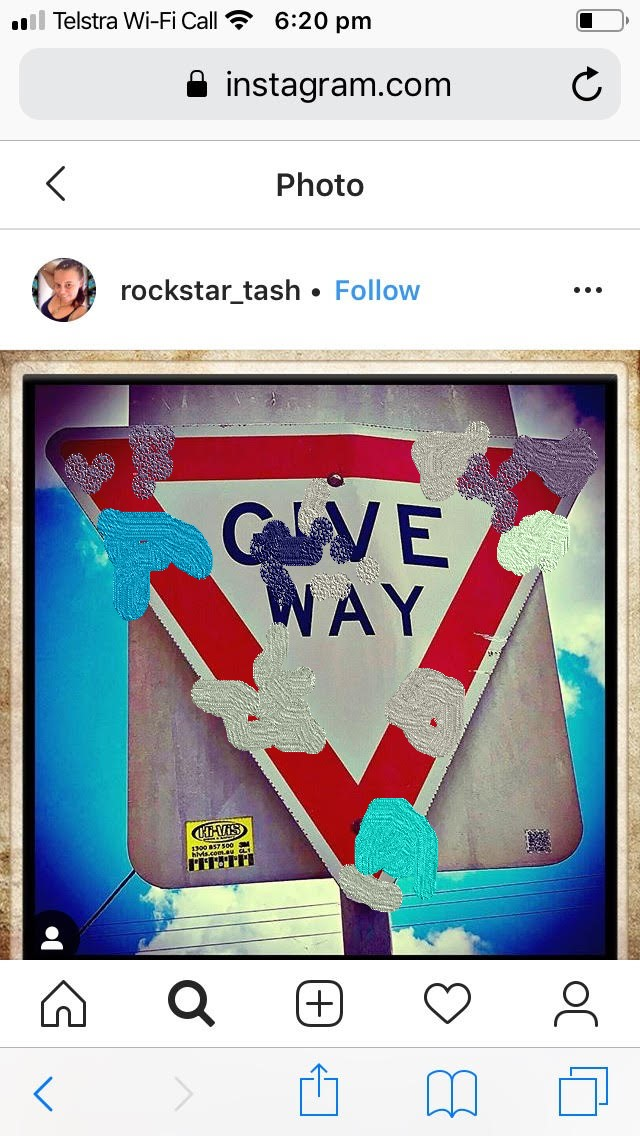giveway: (41, 424, 570, 901), (60, 435, 372, 888), (240, 396, 468, 892), (329, 421, 546, 877)
